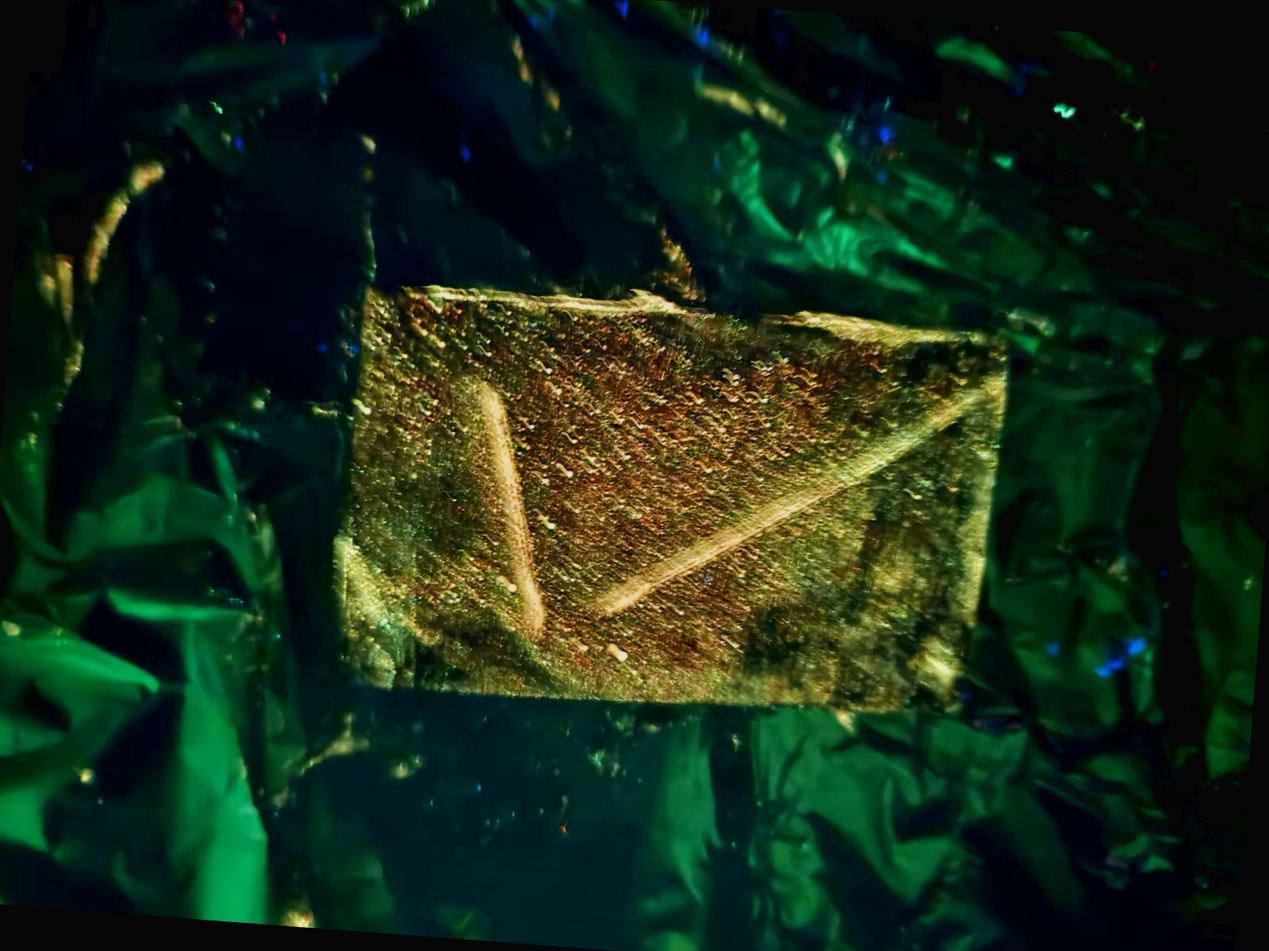Fissure: (603, 343, 1008, 651), (445, 375, 582, 641)
